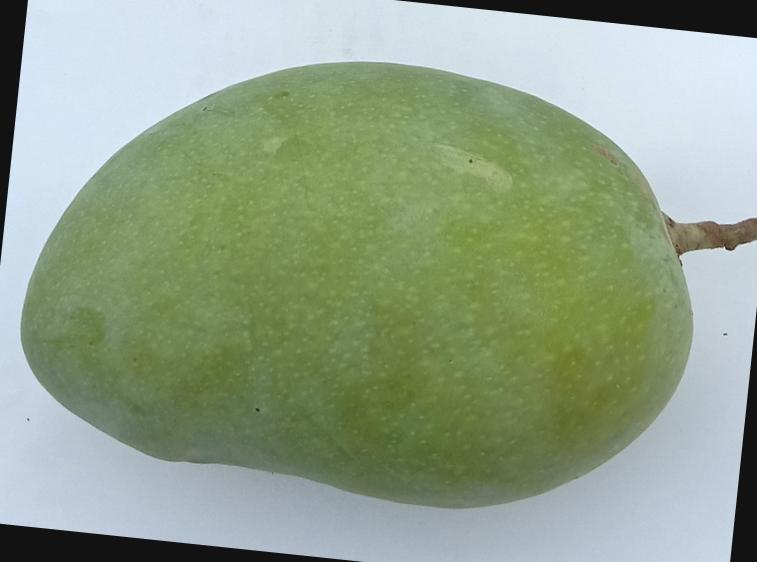Mango Unripe: (0, 0, 757, 554)
